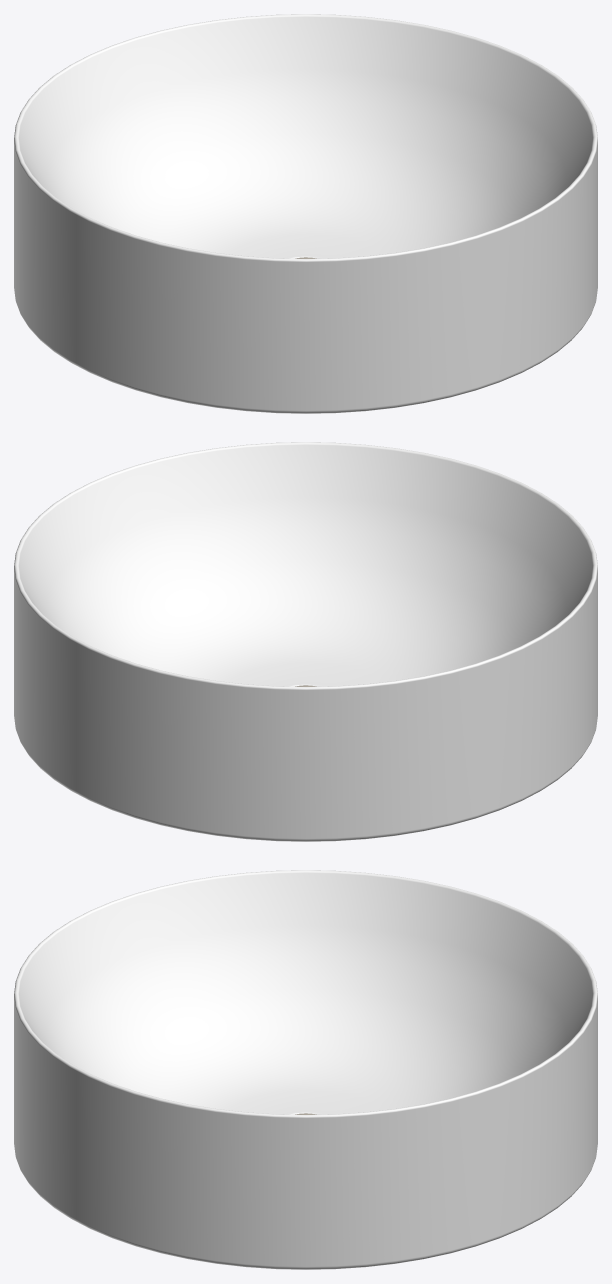
Rendered from Sink_006.gltf.
3 renders of one model, top to bottom at view 1: azimuth 30°, elevation 25°; view 2: azimuth 150°, elevation 25°; view 3: azimuth 270°, elevation 25°, orthographic.
Visible parts, largest first — view 1: Sink_006; view 2: Sink_006; view 3: Sink_006.
Boxes of the visible parts, box(x1,y1,x2,y2) form: Sink_006: box(14, 14, 597, 413); Sink_006: box(14, 442, 597, 841); Sink_006: box(14, 870, 597, 1269).
Size of the model in its own units: 0.47 by 0.1379 by 0.47.
Materials: 1 (1 with a texture image).
